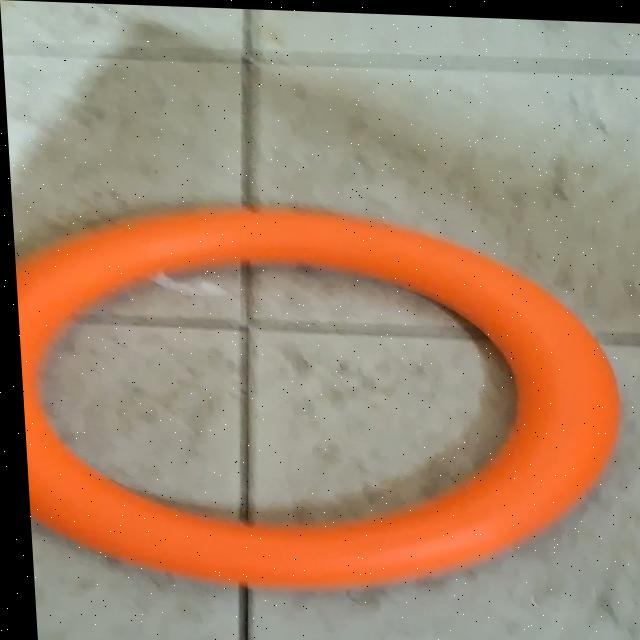note: (10, 194, 627, 599)
